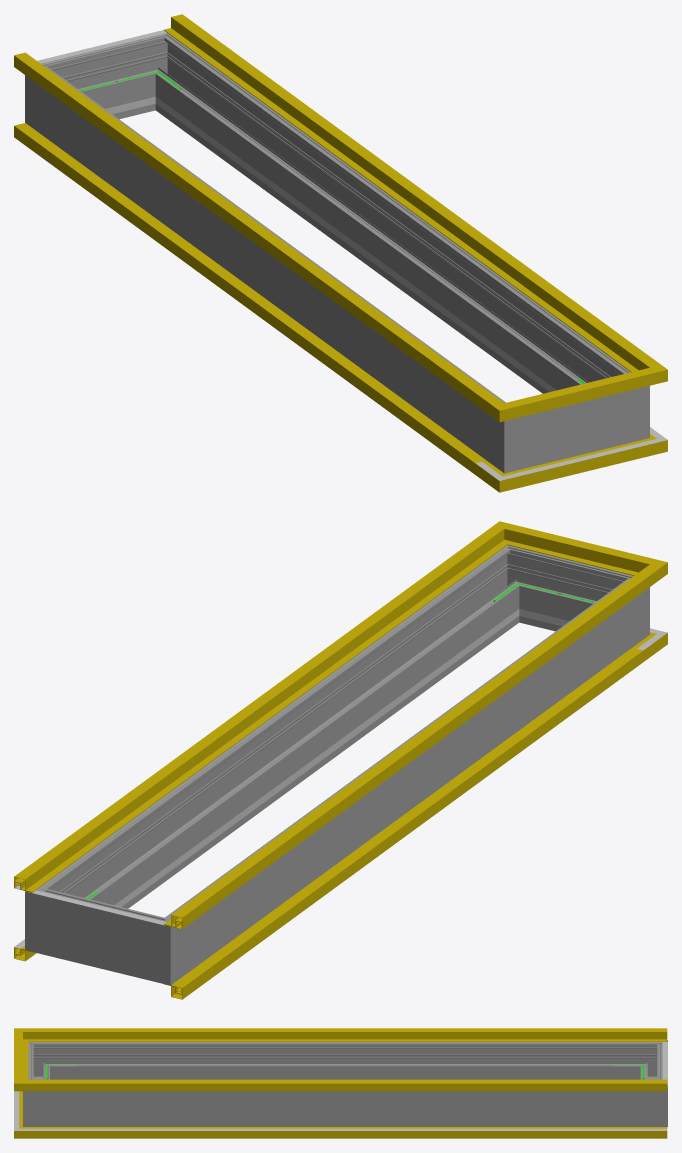
3 renders of one model, top to bottom at view 1: azimuth 30°, elevation 25°; view 2: azimuth 150°, elevation 25°; view 3: azimuth 270°, elevation 25°, orthographic. The views are drawn at different scales.
Visible parts, largest first — view 1: 3DGeom-297, 3DGeom-268, 3DGeom-128, 3DGeom-118, 3DGeom-6, 3DGeom-276, 3DGeom-270, 3DGeom-25, 3DGeom-298, 3DGeom-237, 3DGeom-284, 3DGeom-290 (+6 smaller); view 2: 3DGeom-297, 3DGeom-268, 3DGeom-128, 3DGeom-118, 3DGeom-6, 3DGeom-278, 3DGeom-276, 3DGeom-298, 3DGeom-25, 3DGeom-237, 3DGeom-284, 3DGeom-290 (+4 smaller); view 3: 3DGeom-268, 3DGeom-297, 3DGeom-118, 3DGeom-128, 3DGeom-16, 3DGeom-18, 3DGeom-284, 3DGeom-290, 3DGeom-278, 3DGeom-270, 3DGeom-125, 3DGeom-120 (+5 smaller).
Boxes of the visible parts, x1,y1,x2,y2 form: 3DGeom-297: [159, 48, 618, 393]; 3DGeom-268: [49, 78, 493, 455]; 3DGeom-128: [164, 14, 643, 367]; 3DGeom-118: [14, 52, 486, 404]; 3DGeom-6: [14, 123, 486, 474]; 3DGeom-276: [71, 41, 148, 119]; 3DGeom-270: [480, 393, 546, 473]; 3DGeom-25: [14, 124, 481, 462]; 3DGeom-298: [546, 396, 607, 462]; 3DGeom-237: [179, 114, 556, 391]; 3DGeom-284: [132, 33, 187, 112]; 3DGeom-290: [608, 363, 649, 447]; 3DGeom-297: [56, 560, 515, 908]; 3DGeom-268: [181, 590, 625, 967]; 3DGeom-128: [14, 539, 493, 892]; 3DGeom-118: [164, 577, 643, 929]; 3DGeom-6: [164, 647, 643, 999]; 3DGeom-278: [128, 906, 194, 985]; 3DGeom-276: [67, 896, 135, 975]; 3DGeom-298: [526, 553, 603, 631]; 3DGeom-25: [176, 649, 642, 989]; 3DGeom-237: [114, 626, 495, 906]; 3DGeom-284: [25, 875, 74, 960]; 3DGeom-290: [487, 545, 542, 624]; 3DGeom-268: [55, 1042, 635, 1079]; 3DGeom-297: [55, 1091, 635, 1126]; 3DGeom-118: [46, 1028, 667, 1041]; 3DGeom-128: [46, 1079, 667, 1091]; 3DGeom-16: [46, 1127, 667, 1138]; 3DGeom-18: [46, 1128, 667, 1130]; 3DGeom-284: [635, 1073, 667, 1126]; 3DGeom-290: [23, 1073, 55, 1126]; 3DGeom-278: [635, 1040, 667, 1079]; 3DGeom-270: [28, 1042, 55, 1079]; 3DGeom-125: [14, 1069, 46, 1091]; 3DGeom-120: [14, 1028, 46, 1049].
Bounding box in the file's own units: 0.6096 × 0.2836 × 3.05.
